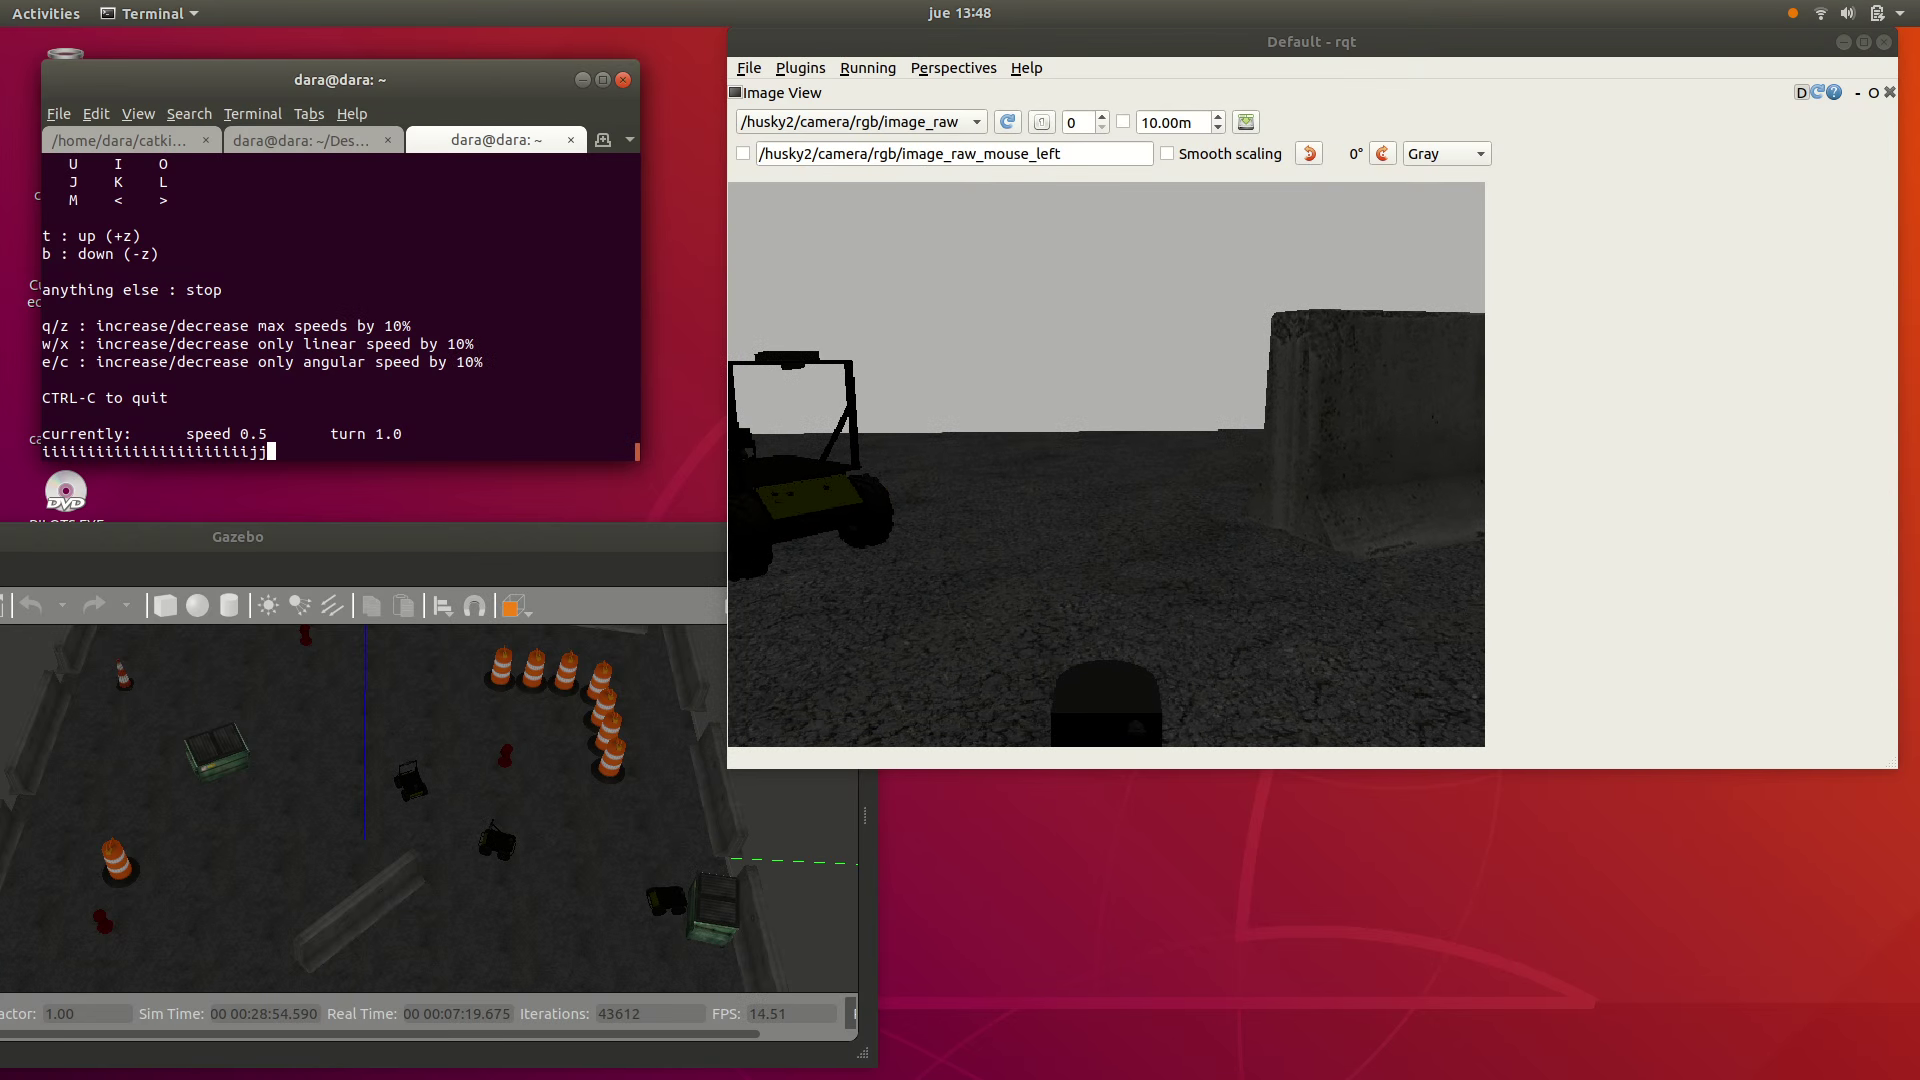husky: (729, 360, 894, 582), (478, 829, 518, 861), (394, 770, 429, 802)
